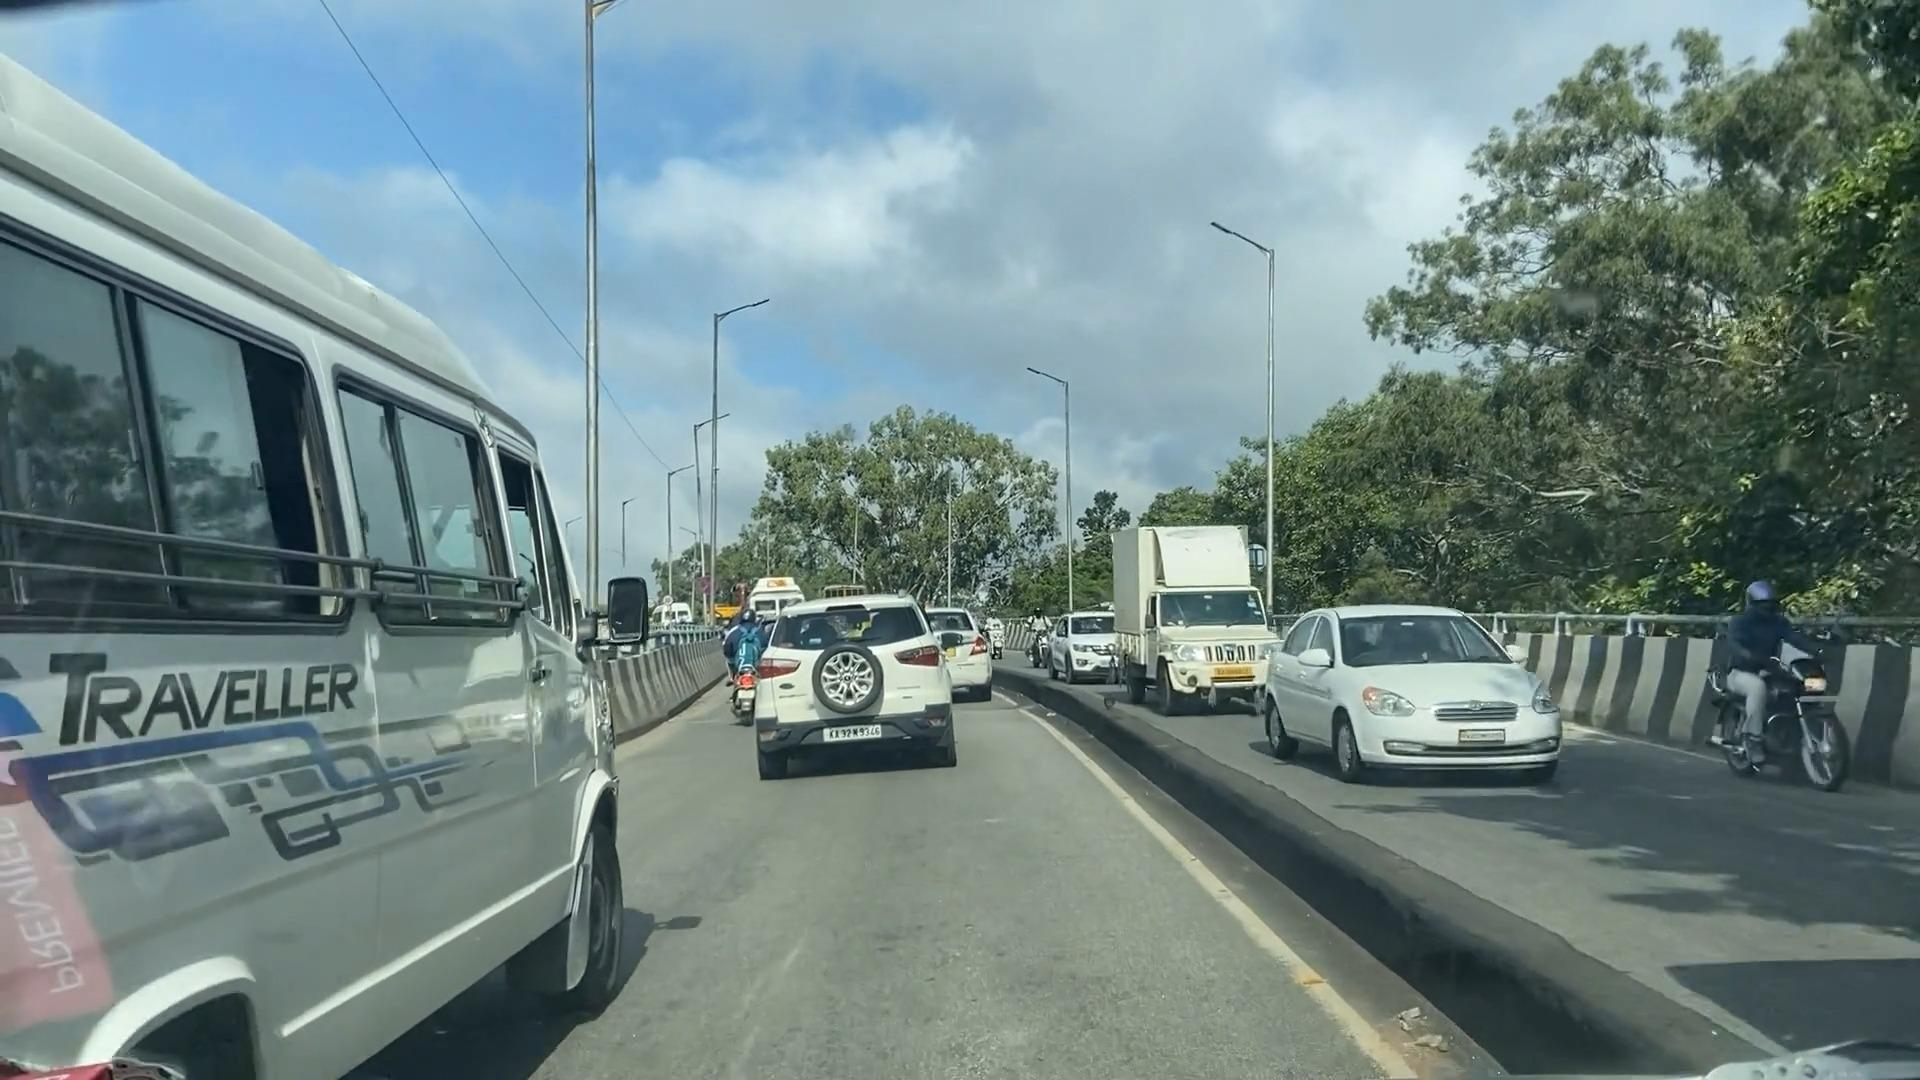LMV: (756, 603, 952, 749)
